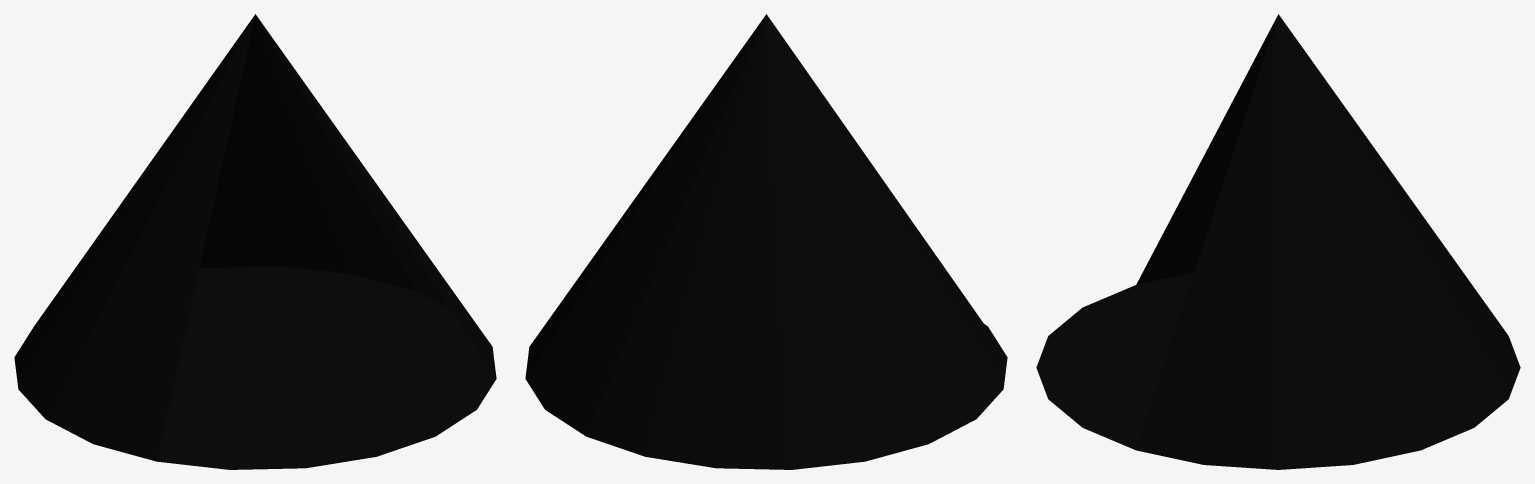
3 views of the same model, side by side, from view 1: azimuth 30°, elevation 25°; view 2: azimuth 150°, elevation 25°; view 3: azimuth 270°, elevation 25° (orthographic).
Parts seen in each view (by area): view 1: ef_179; view 2: ef_179; view 3: ef_179.
Boxes of the visible parts, x1,y1,x2,y2 form: ef_179: [14, 14, 496, 469]; ef_179: [525, 14, 1007, 469]; ef_179: [1036, 14, 1520, 469].
Size of the model in its own units: 2.84 by 2.29 by 2.84.
2 materials, 2 textured.
